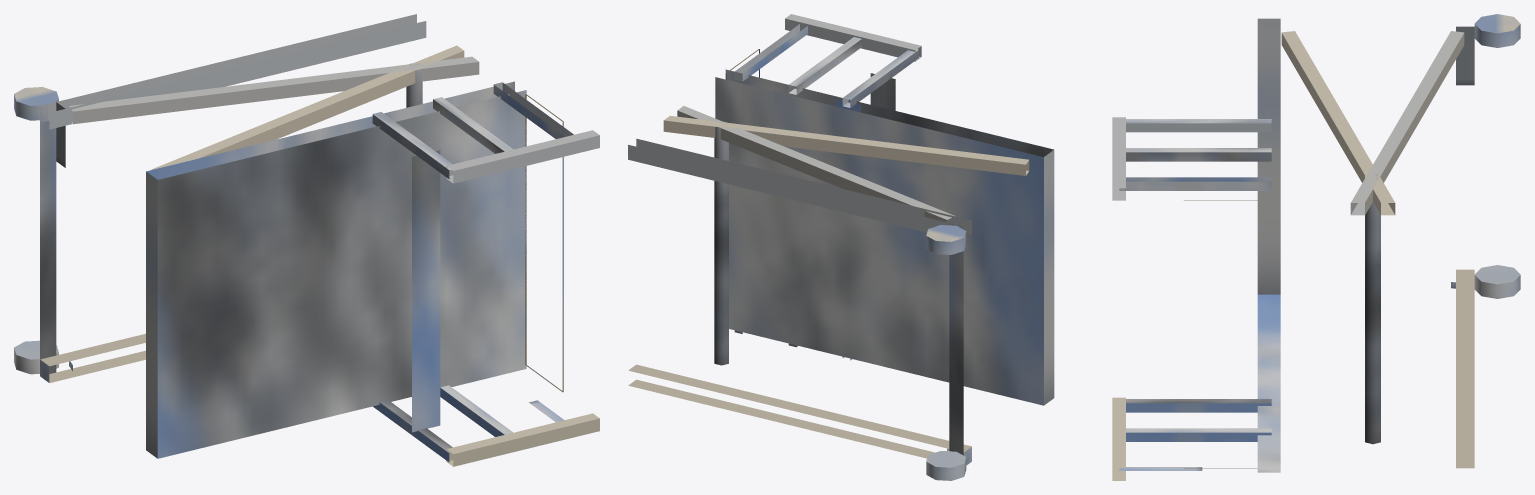
Rendered from section-2.obj.
3 renders of one model, left to right at view 1: azimuth 30°, elevation 25°; view 2: azimuth 150°, elevation 25°; view 3: azimuth 270°, elevation 25°, orthographic. The views are drawn at different scales.
Size of the model in its own units: 0.963 by 0.7 by 0.885.
